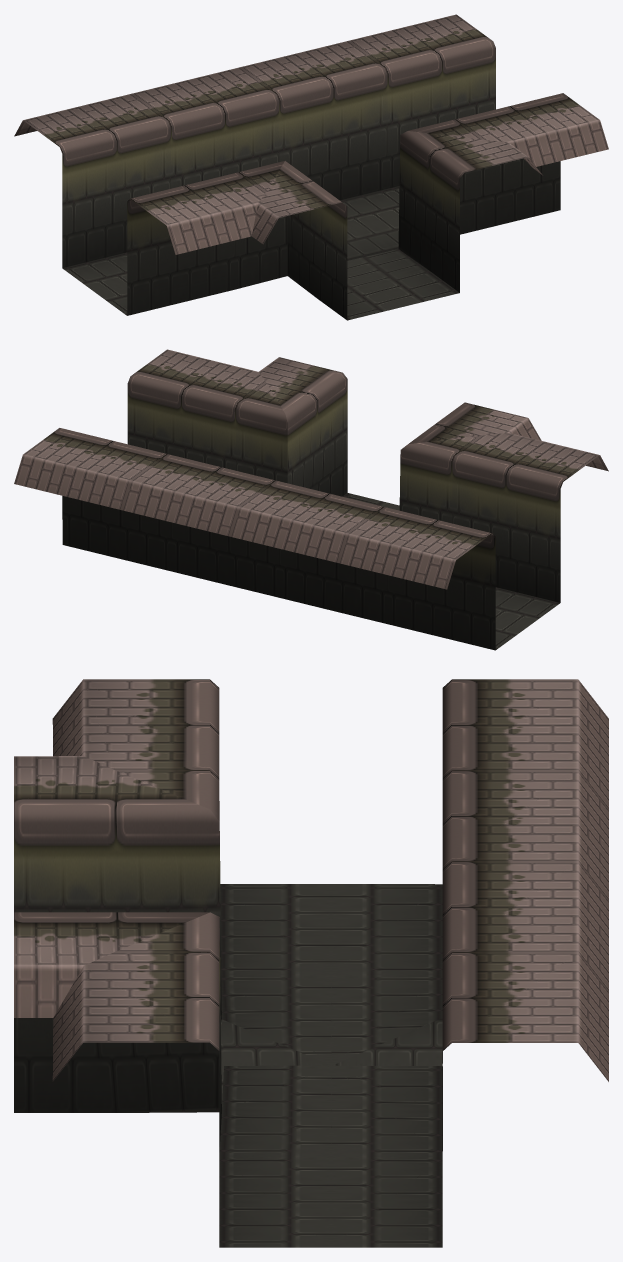
The model's file is Canal_Brick_03.FBX.
3 renders of one model, top to bottom at view 1: azimuth 30°, elevation 25°; view 2: azimuth 150°, elevation 25°; view 3: azimuth 270°, elevation 25°, orthographic. The views are drawn at different scales.
Parts seen in each view (by area): view 1: Canal_Brick_03; view 2: Canal_Brick_03; view 3: Canal_Brick_03.
Boxes of the visible parts, bbox=[...] form: Canal_Brick_03: bbox=[14, 14, 608, 320]; Canal_Brick_03: bbox=[14, 349, 608, 650]; Canal_Brick_03: bbox=[14, 679, 608, 1247].
Size of the model in its own units: 327 by 85.92 by 226.
